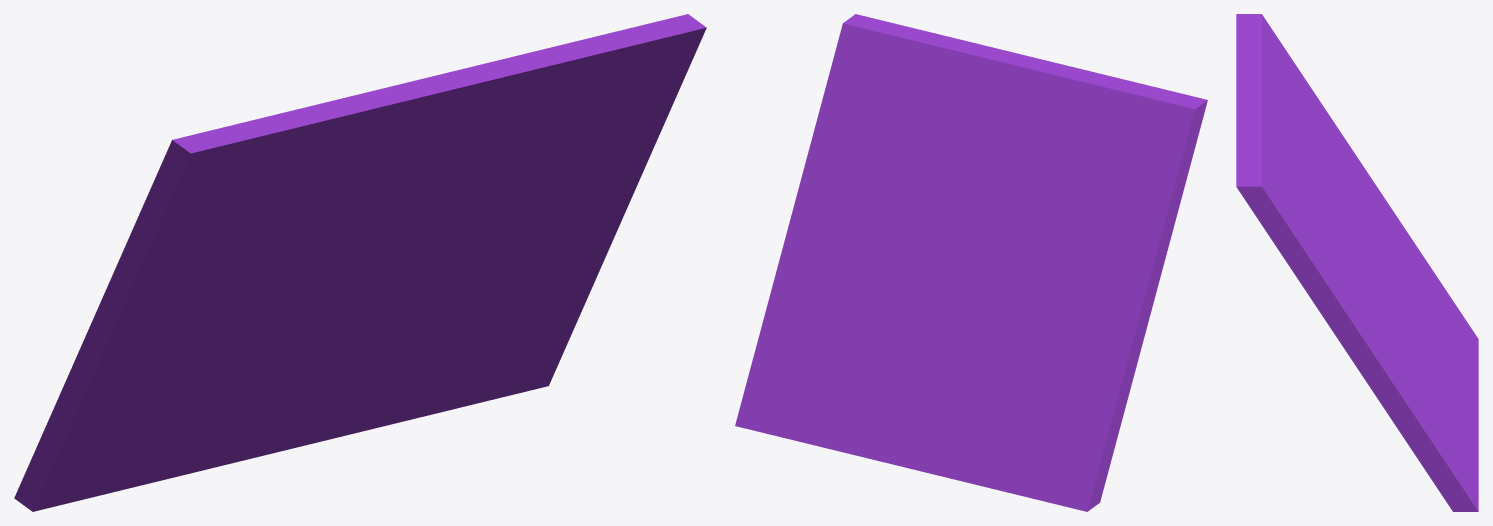
File: Window_29_chunks.fbx
3 renders of one model, left to right at view 1: azimuth 30°, elevation 25°; view 2: azimuth 150°, elevation 25°; view 3: azimuth 270°, elevation 25°, orthographic. The views are drawn at different scales.
Visible parts, largest first — view 1: Window_29_3, Window_29_1, Window_29_11, Window_29_7, Window_29_4, Window_29_9, Window_29_6, Window_29_23, Window_29_16, Window_29_25, Window_29_19, Window_29_0 (+12 smaller); view 2: Window_29_3, Window_29_7, Window_29_6, Window_29_9, Window_29_2, Window_29_23, Window_29_16, Window_29_25, Window_29_28, Window_29_11, Window_29_29, Window_29_4 (+17 smaller); view 3: Window_29_7, Window_29_3, Window_29_9, Window_29_19, Window_29_6, Window_29_2, Window_29_11, Window_29_21, Window_29_20, Window_29_16, Window_29_1, Window_29_28 (+15 smaller).
Boxes of the visible parts, bbox=[...] form: Window_29_3: bbox=[14, 354, 261, 511]; Window_29_1: bbox=[476, 16, 706, 157]; Window_29_11: bbox=[256, 71, 476, 177]; Window_29_7: bbox=[486, 14, 692, 233]; Window_29_4: bbox=[210, 274, 432, 383]; Window_29_9: bbox=[178, 111, 320, 259]; Window_29_6: bbox=[384, 203, 532, 340]; Window_29_23: bbox=[48, 272, 187, 431]; Window_29_16: bbox=[296, 347, 515, 447]; Window_29_25: bbox=[114, 138, 224, 297]; Window_29_19: bbox=[488, 192, 633, 312]; Window_29_0: bbox=[339, 138, 579, 279]; Window_29_3: bbox=[973, 343, 1124, 511]; Window_29_7: bbox=[794, 21, 936, 232]; Window_29_6: bbox=[854, 181, 968, 362]; Window_29_9: bbox=[1008, 89, 1207, 204]; Window_29_2: bbox=[850, 24, 1003, 138]; Window_29_23: bbox=[1087, 251, 1164, 424]; Window_29_16: bbox=[768, 374, 906, 467]; Window_29_25: bbox=[1119, 106, 1203, 261]; Window_29_28: bbox=[996, 295, 1113, 429]; Window_29_11: bbox=[1002, 52, 1161, 124]; Window_29_29: bbox=[965, 201, 1053, 306]; Window_29_4: bbox=[901, 273, 1028, 365]; Window_29_7: bbox=[1256, 183, 1366, 336]; Window_29_3: bbox=[1400, 269, 1478, 394]; Window_29_9: bbox=[1236, 14, 1331, 192]; Window_29_19: bbox=[1336, 324, 1414, 422]; Window_29_6: bbox=[1330, 227, 1431, 394]; Window_29_2: bbox=[1246, 109, 1306, 210]; Window_29_11: bbox=[1236, 36, 1288, 134]; Window_29_21: bbox=[1394, 395, 1461, 486]; Window_29_20: bbox=[1404, 429, 1478, 511]; Window_29_16: bbox=[1439, 394, 1478, 495]; Window_29_1: bbox=[1236, 109, 1260, 215]; Window_29_28: bbox=[1373, 221, 1434, 272].
Bounding box in the file's own units: 1059 × 930 × 628.
